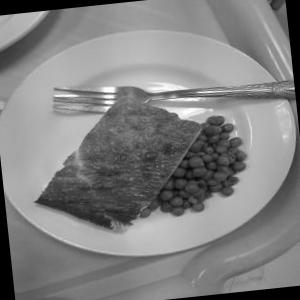casserole: (18, 81, 266, 240)
